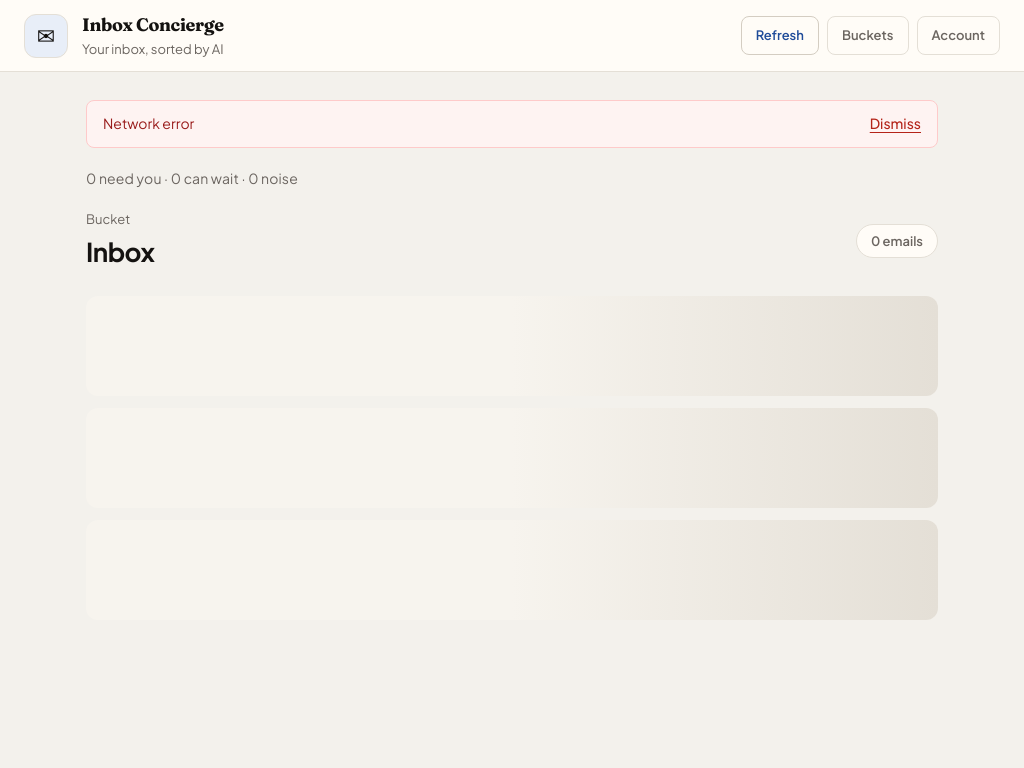
Test: Inbox › shows error and dismiss button when load fails
expect the message shows "Network error": met, box [103,114,194,132]
Click the button with aria-label "dismiss error".
click(895, 124)  # box [870,113,921,135]
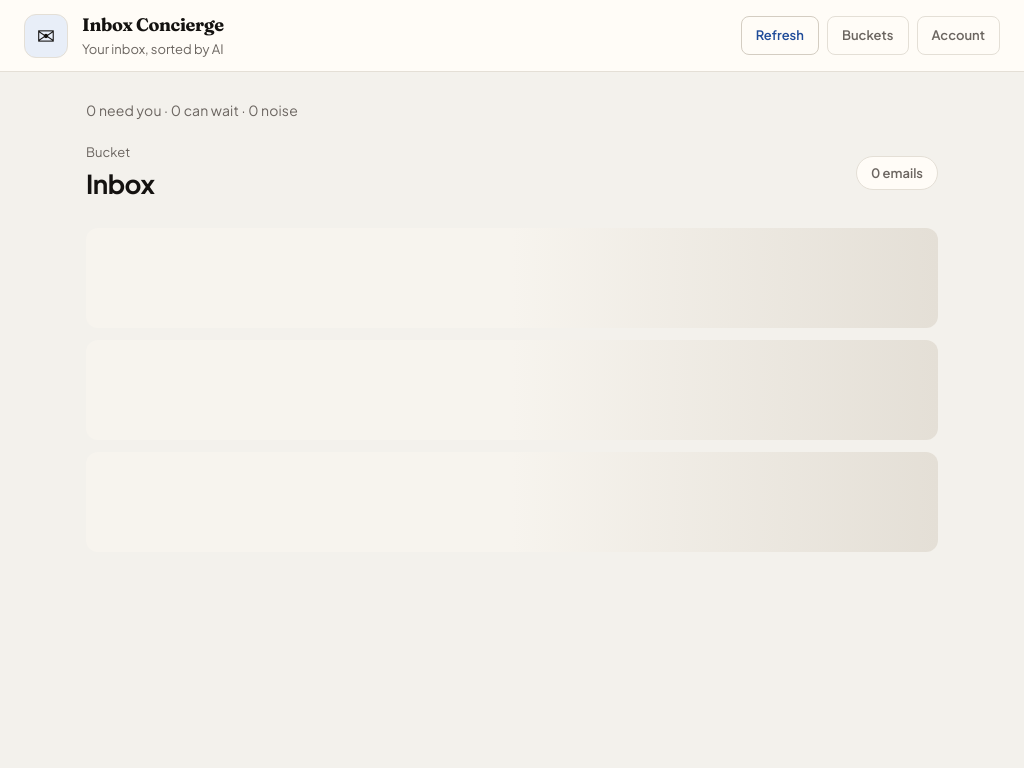
expect the message "Network error Dismiss" is gone: met
